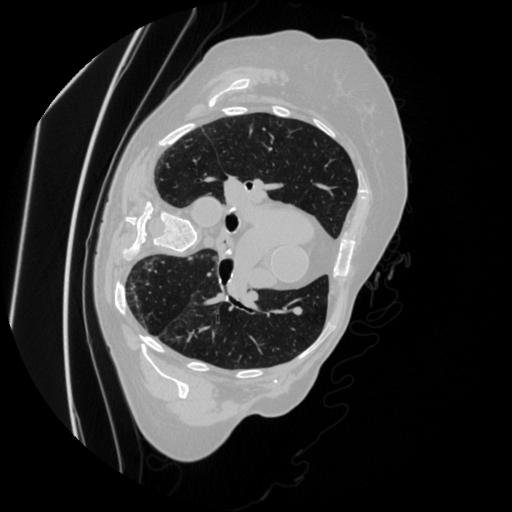nodule: (292, 306, 308, 322)
